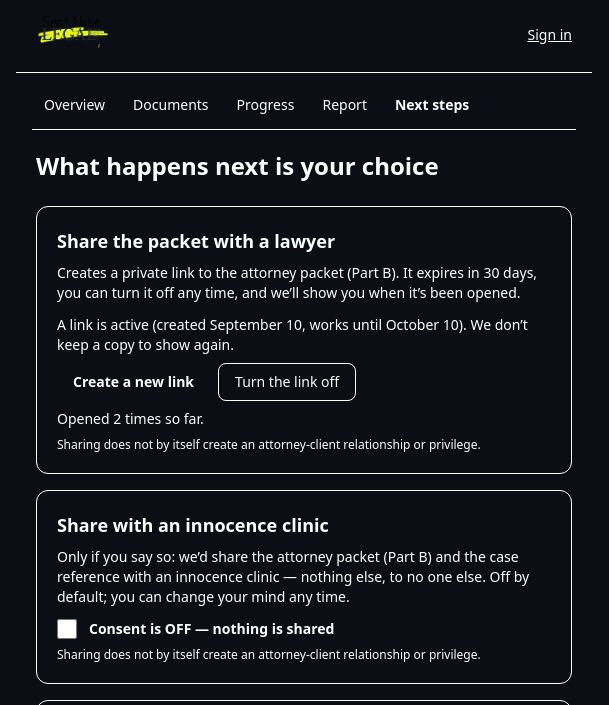
Test: share the packet with a lawyer › a link from an earlier visit shows its status honestly and offers a new one (which replaces it)
Check: the element with test id "share-active" shows "created September 10, works until October 10", box [57,315,551,401]
Check: the element with test id "share-active" shows "don’t keep a copy", box [57,315,528,354]
Click the button with test id "share-create".
click(134, 382)  # box [57,363,210,401]
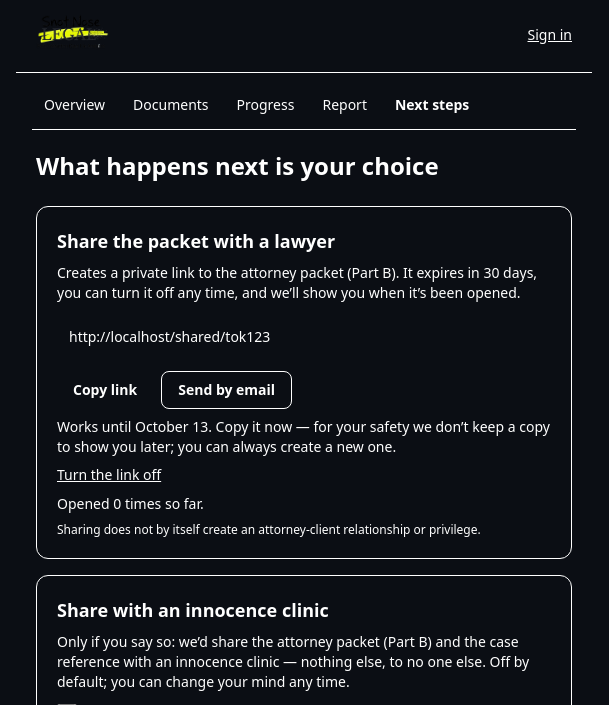
Check: the text with test id "share-url" shows "/shared/tok123", box [69,327,270,346]
